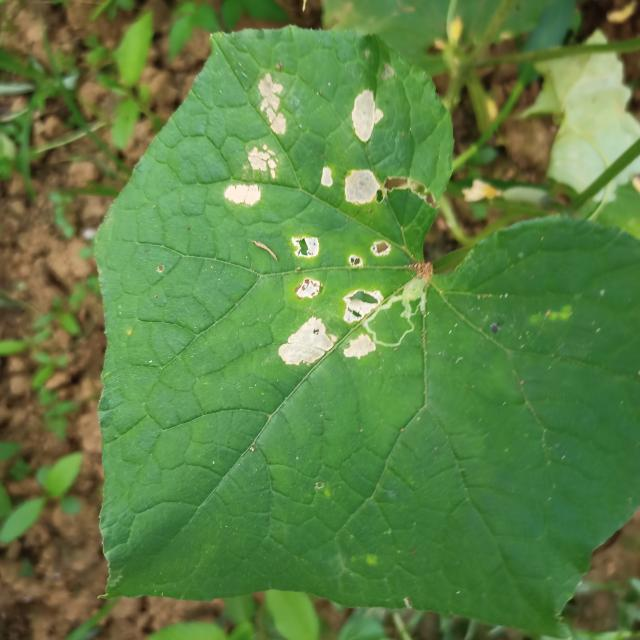disease_cucumber: (278, 236, 378, 366), (226, 74, 286, 208), (322, 90, 382, 206)
